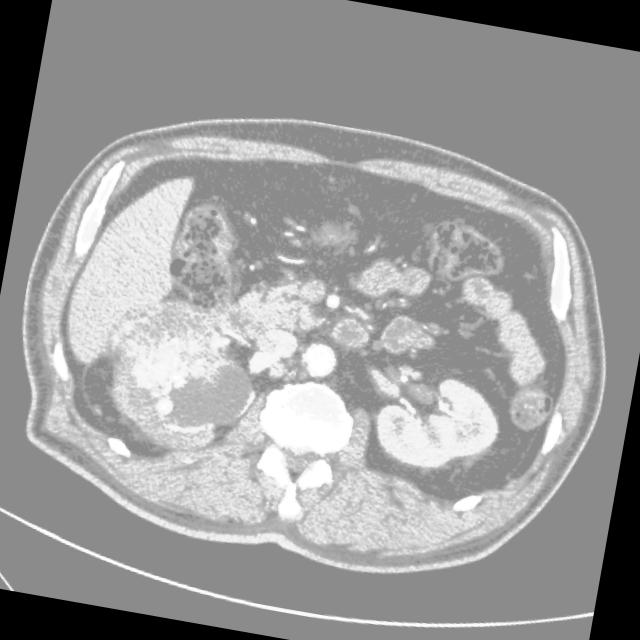TUMOR: (0, 185, 569, 491)
